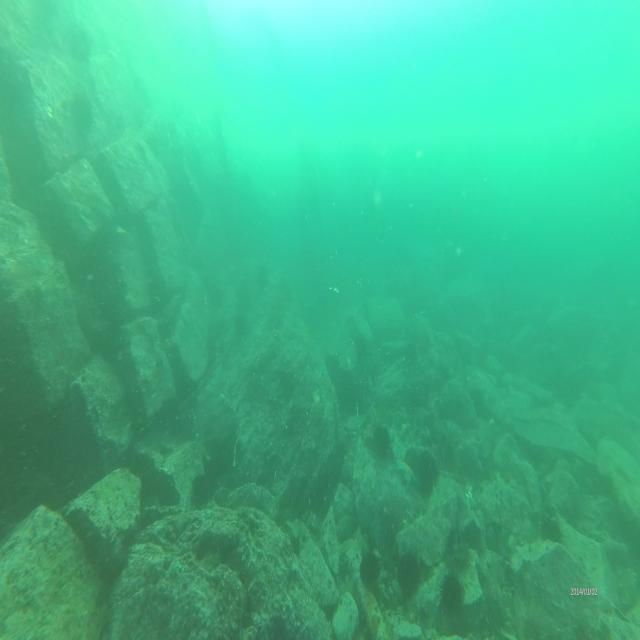echinus: (438, 570, 466, 614), (397, 550, 421, 598), (70, 91, 95, 136), (413, 450, 437, 492), (539, 516, 565, 550), (360, 551, 381, 589), (372, 421, 391, 456)
starfish: (393, 457, 418, 486)
